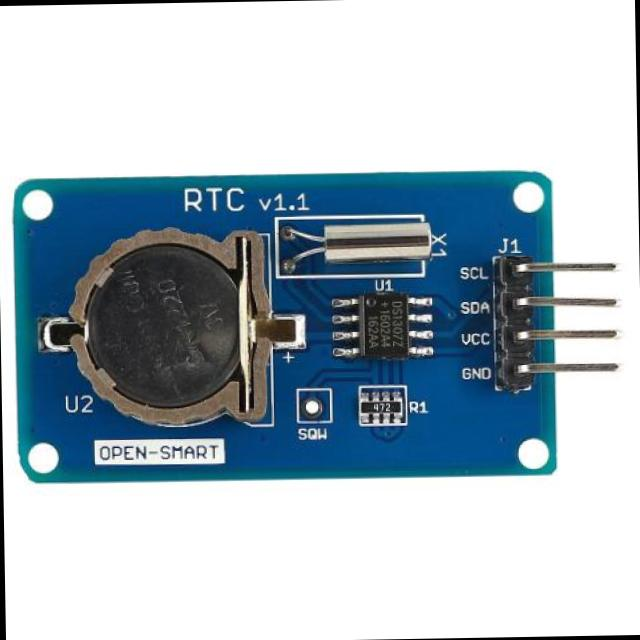IC: (340, 290, 428, 371)
connector: (488, 243, 627, 408)
resistor: (356, 390, 418, 428)
